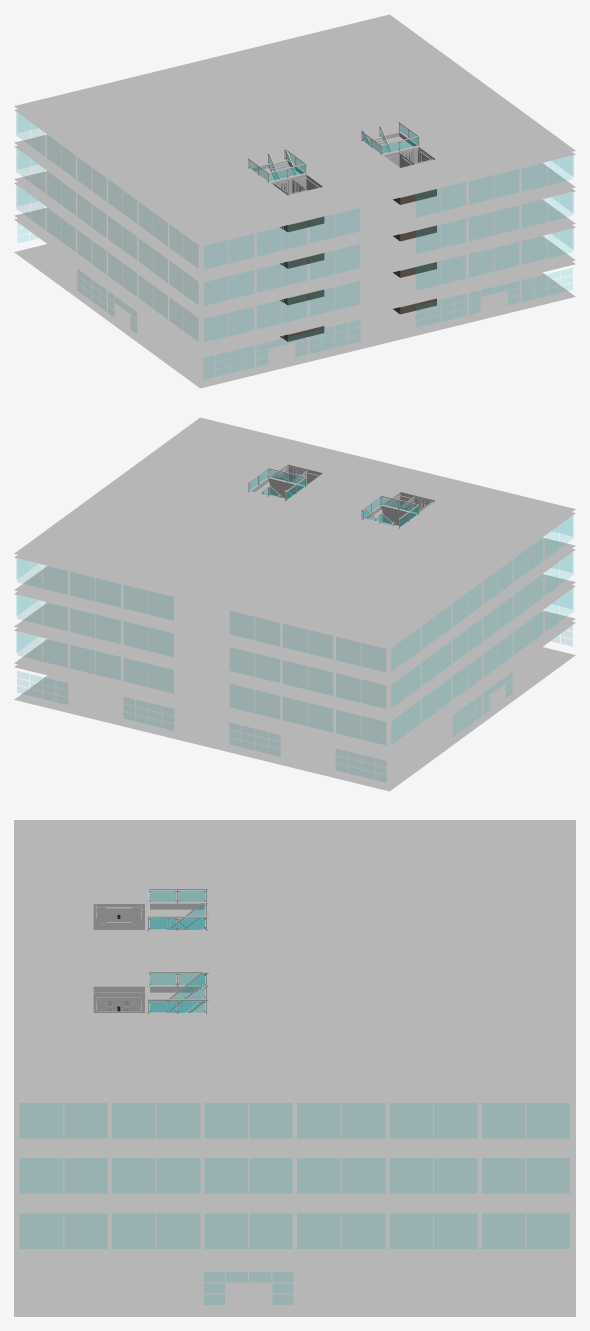
Rendered from Building05_Interior01.fbx.
3 views of the same model, one above another, from view 1: azimuth 30°, elevation 25°; view 2: azimuth 150°, elevation 25°; view 3: azimuth 270°, elevation 25° (orthographic). The views are drawn at different scales.
Parts seen in each view (by area): view 1: Building05_Interior01; view 2: Building05_Interior01; view 3: Building05_Interior01.
Boxes of the visible parts, x1,y1,x2,y2 form: Building05_Interior01: (14,14,575,388); Building05_Interior01: (14,417,575,791); Building05_Interior01: (14,820,575,1316).
Size of the model in its own units: 4364 by 1833 by 3747.
